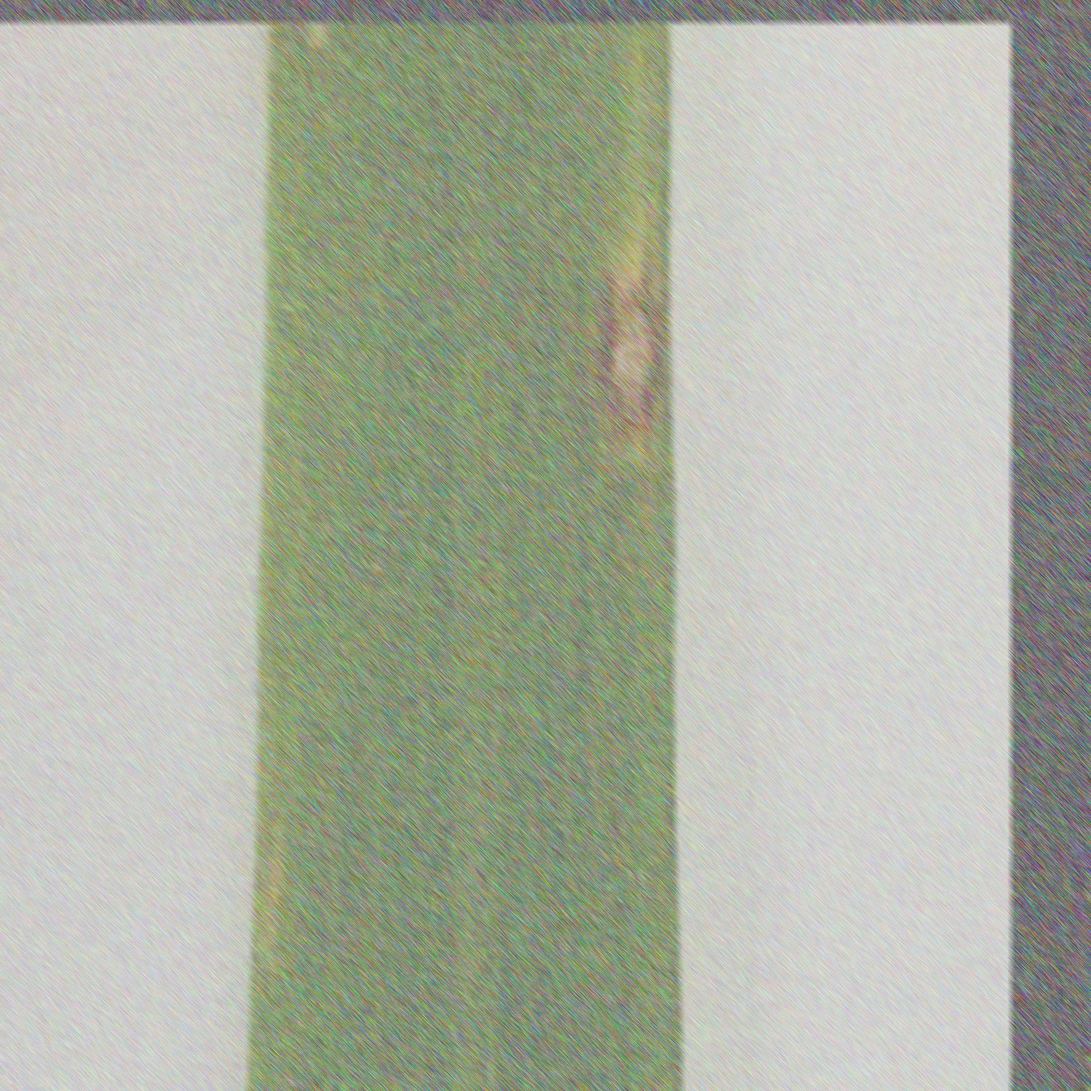Brown_Spot: (557, 181, 712, 494)
